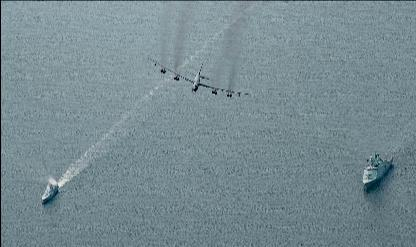B2: (147, 56, 248, 96)
